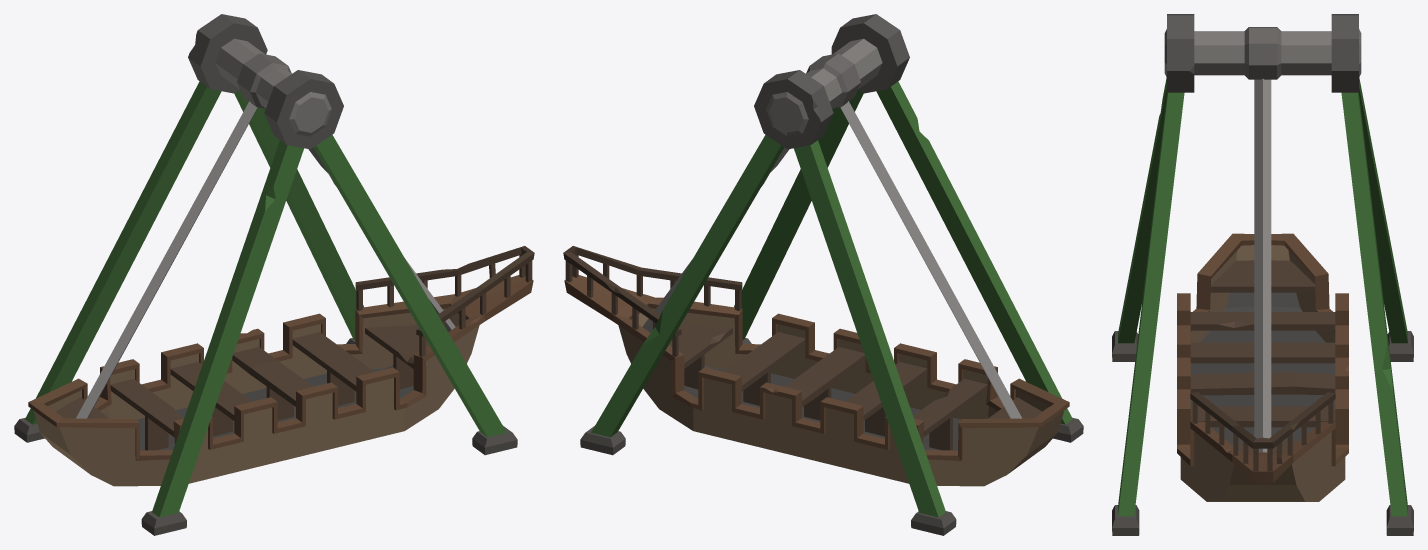
File: SM_Bldg_City_AmusementPark_ShipRide.fbx
The picture shows the model from 3 angles, left to right: view 1: azimuth 30°, elevation 25°; view 2: azimuth 150°, elevation 25°; view 3: azimuth 270°, elevation 25°; orthographic projection. The views are drawn at different scales.
Parts seen in each view (by area): view 1: SM_Bldg_City_AmusementPark_ShipRide_Ship, SM_Bldg_City_AmusementPark_ShipRide; view 2: SM_Bldg_City_AmusementPark_ShipRide_Ship, SM_Bldg_City_AmusementPark_ShipRide; view 3: SM_Bldg_City_AmusementPark_ShipRide_Ship, SM_Bldg_City_AmusementPark_ShipRide.
Boxes of the visible parts, bbox=[...] form: SM_Bldg_City_AmusementPark_ShipRide_Ship: bbox=[28, 101, 534, 486]; SM_Bldg_City_AmusementPark_ShipRide: bbox=[14, 14, 517, 535]; SM_Bldg_City_AmusementPark_ShipRide_Ship: bbox=[563, 101, 1069, 486]; SM_Bldg_City_AmusementPark_ShipRide: bbox=[580, 14, 1083, 535]; SM_Bldg_City_AmusementPark_ShipRide_Ship: bbox=[1177, 78, 1348, 501]; SM_Bldg_City_AmusementPark_ShipRide: bbox=[1112, 14, 1413, 535].
Bounding box in the file's own units: 796 × 615 × 396.
